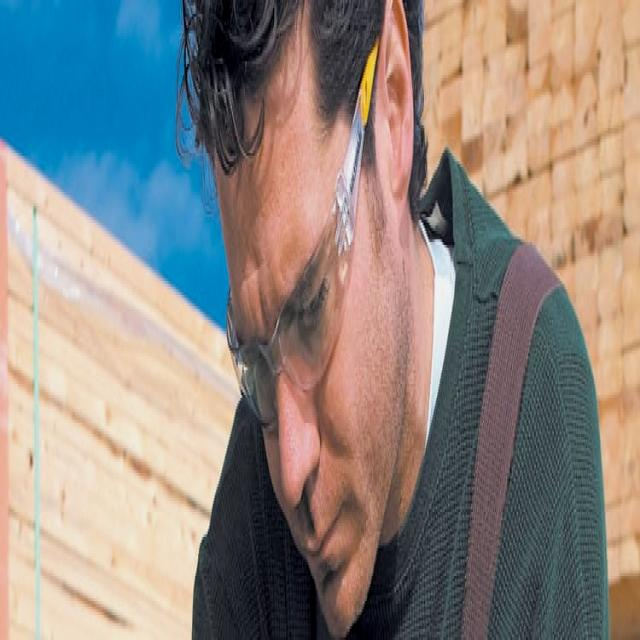Safety Glasses: (224, 22, 384, 448)
